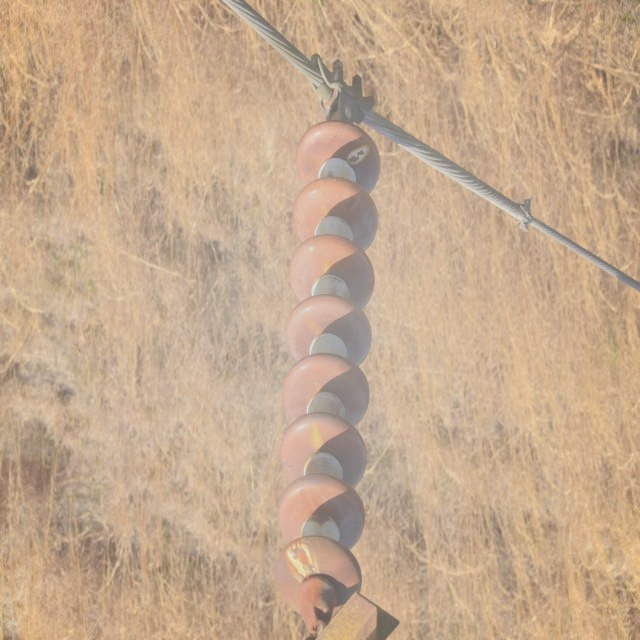insulator: (276, 116, 380, 618)
